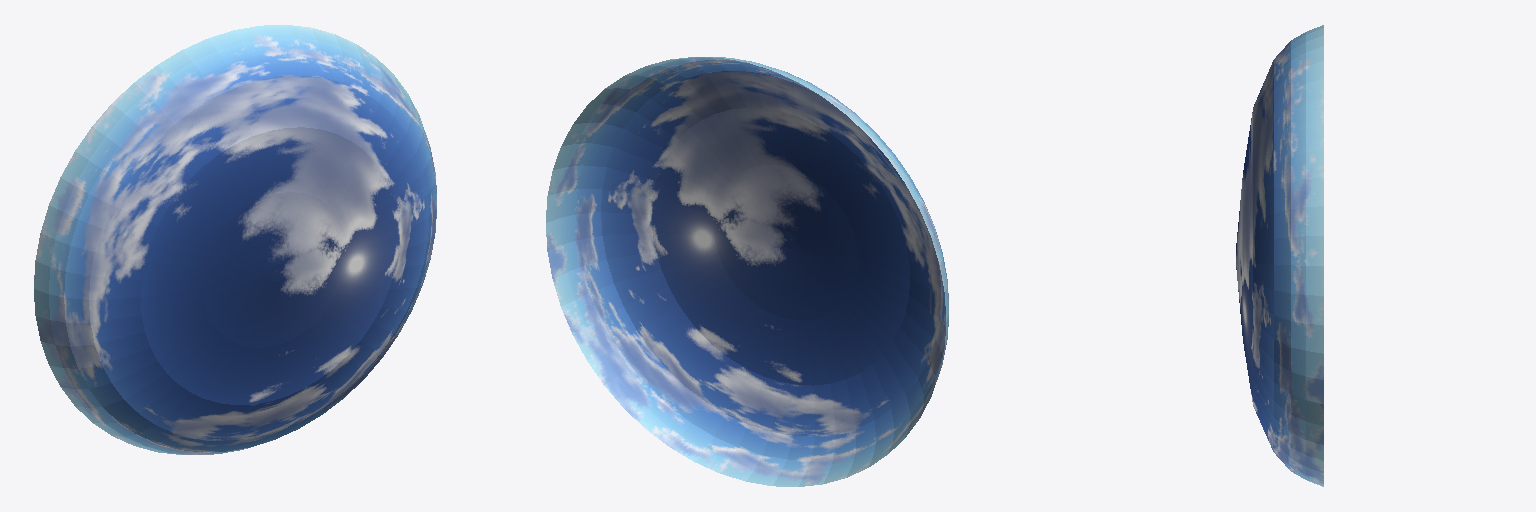
The picture shows the model from 3 angles: view 1: azimuth 30°, elevation 25°; view 2: azimuth 150°, elevation 25°; view 3: azimuth 270°, elevation 25°; orthographic projection.
Size of the model in its own units: 1751 by 1751 by 332.
Materials: 1 (1 with a texture image).